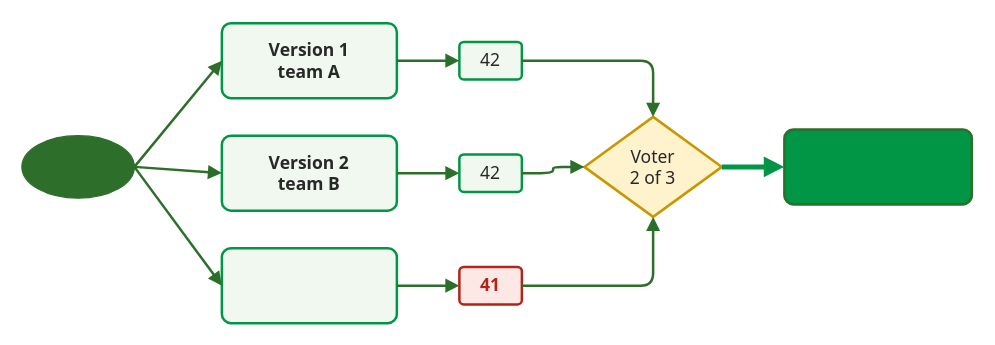
Image size: 995x345. Some labels were removed from this diagram. The shapes that lost their labels are listed below. From the top down, each one's centre as x and y in pixels, then its label:
At point 77,166: "Input".
At point 877,166: "Output 42 version 3 outvoted".
At point 309,285: "Version 3 team C".
